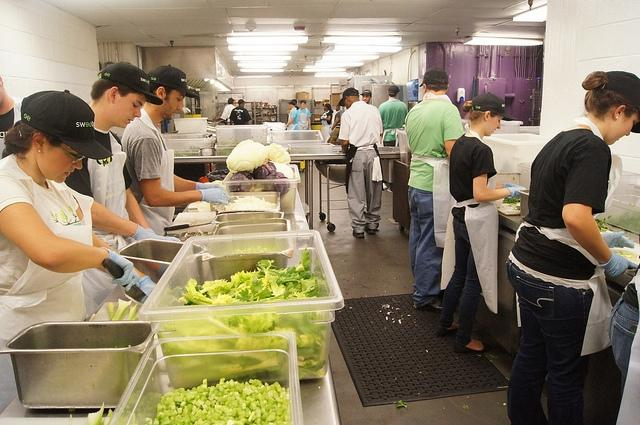lettuce: (230, 272, 242, 292), (267, 283, 284, 292), (248, 276, 254, 286), (257, 277, 265, 282)
